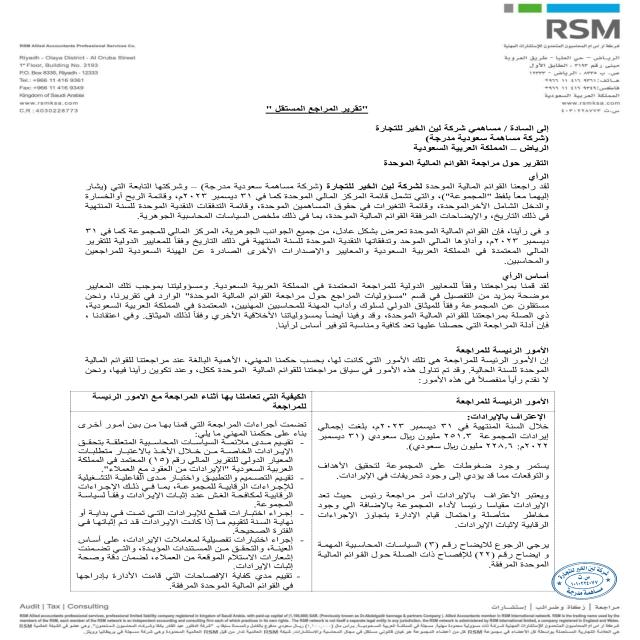auditor_report: (254, 101, 378, 120)
